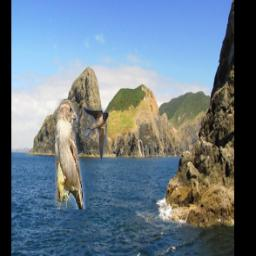Sparrow: (54, 99, 84, 209)
Swallow: (83, 107, 109, 161)
